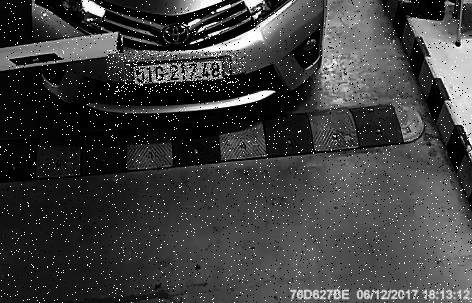License-plate: (108, 52, 246, 95)
